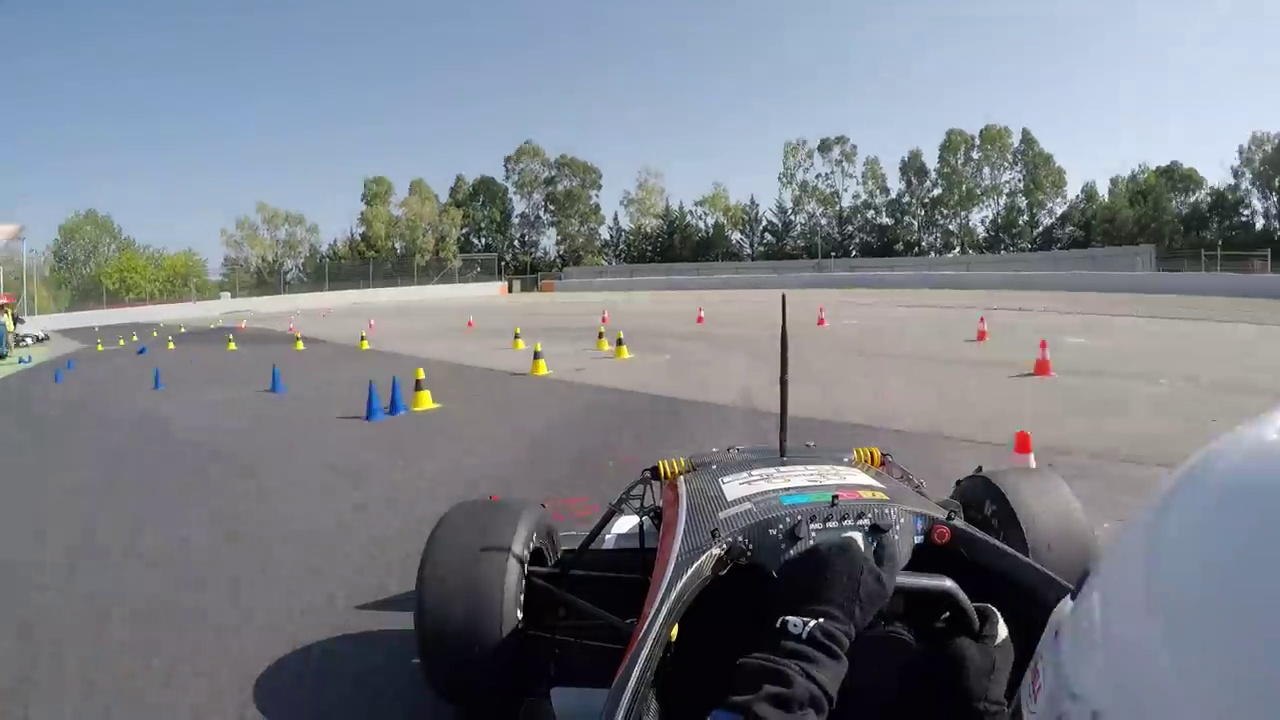Cone: (407, 366, 440, 412), (1029, 336, 1061, 375), (362, 379, 386, 421), (384, 375, 408, 417), (529, 341, 553, 376), (611, 327, 635, 359)
